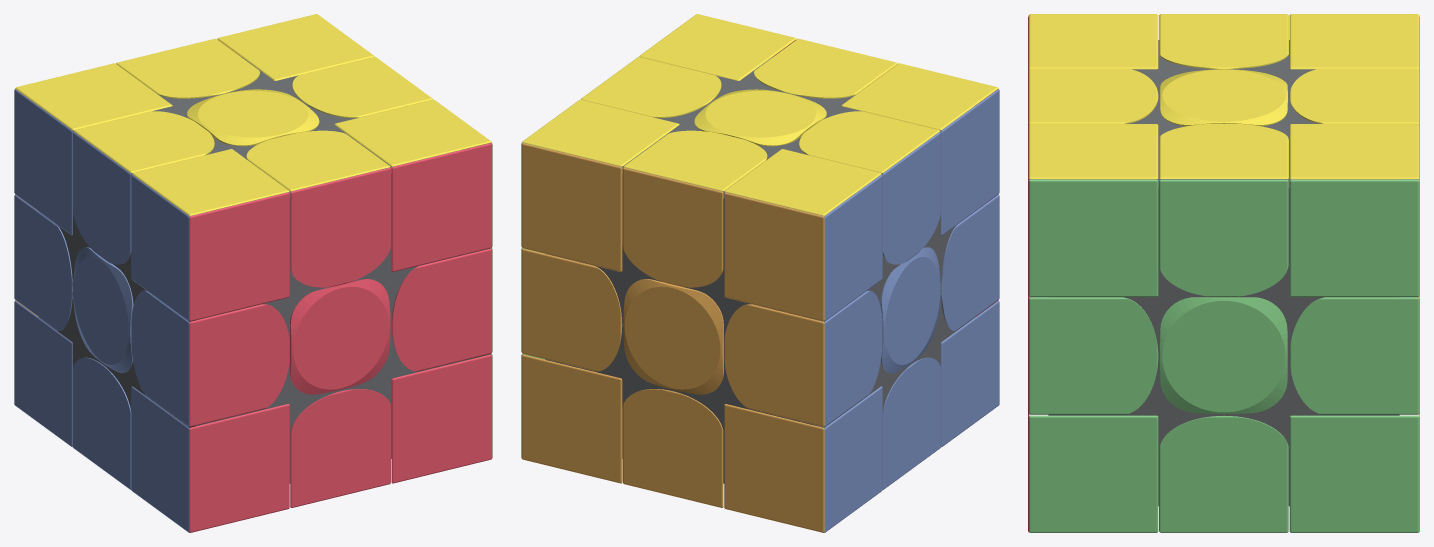
File: rubiks_el_cubes.glb
3 views of the same model, side by side, from view 1: azimuth 30°, elevation 25°; view 2: azimuth 150°, elevation 25°; view 3: azimuth 270°, elevation 25° (orthographic). The views are drawn at different scales.
Visible parts, largest first — view 1: EL Cubes.005_5, EL Cubes.033_33, EL Cubes_0, EL Cubes.002_2, EL Cubes.016_16, EL Cubes.026_26, EL Cubes.019_19, EL Cubes.027_27, EL Cubes.001_1, EL Cubes.035_35, EL Cubes.030_30, EL Cubes.004_4 (+13 smaller); view 2: EL Cubes.004_4, EL Cubes.030_30, EL Cubes.032_32, EL Cubes.010_10, EL Cubes.021_21, EL Cubes.018_18, EL Cubes.023_23, EL Cubes.020_20, EL Cubes.001_1, EL Cubes.031_31, EL Cubes.033_33, EL Cubes.005_5 (+13 smaller); view 3: EL Cubes.016_16, EL Cubes.021_21, EL Cubes.002_2, EL Cubes.010_10, EL Cubes.029_29, EL Cubes.020_20, EL Cubes.026_26, EL Cubes.012_12, EL Cubes.022_22, EL Cubes.001_1, EL Cubes.013_13, EL Cubes.014_14 (+7 smaller).
Part boxes in pixels (x1,y1,x2,y2): EL Cubes.005_5: (131,174,289,321); EL Cubes.033_33: (131,386,289,532); EL Cubes_0: (131,290,289,426); EL Cubes.002_2: (391,353,492,483); EL Cubes.016_16: (391,142,492,271); EL Cubes.026_26: (391,248,492,371); EL Cubes.019_19: (290,167,390,287); EL Cubes.027_27: (289,389,390,507); EL Cubes.001_1: (38,57,468,483); EL Cubes.035_35: (290,279,390,394); EL Cubes.030_30: (14,300,72,447); EL Cubes.004_4: (14,89,72,235); EL Cubes.004_4: (724,174,882,321); EL Cubes.030_30: (724,386,882,532); EL Cubes.032_32: (724,290,882,426); EL Cubes.010_10: (521,353,622,483); EL Cubes.021_21: (521,142,622,271); EL Cubes.018_18: (622,167,723,287); EL Cubes.023_23: (622,389,724,507); EL Cubes.020_20: (521,248,622,371); EL Cubes.001_1: (545,57,975,483); EL Cubes.031_31: (623,279,723,394); EL Cubes.033_33: (941,300,999,447); EL Cubes.005_5: (941,89,999,235); EL Cubes.016_16: (1028,127,1158,296); EL Cubes.021_21: (1289,127,1419,296); EL Cubes.002_2: (1028,413,1158,532); EL Cubes.010_10: (1289,413,1419,532); EL Cubes.029_29: (1159,179,1288,296); EL Cubes.020_20: (1289,295,1419,414); EL Cubes.026_26: (1028,295,1158,414); EL Cubes.012_12: (1159,415,1288,532); EL Cubes.022_22: (1160,297,1287,414); EL Cubes.001_1: (1048,40,1399,506); EL Cubes.013_13: (1028,124,1158,179); EL Cubes.014_14: (1289,124,1419,179).
Bounding box in the file's own units: 1.37 × 1.38 × 1.37.
